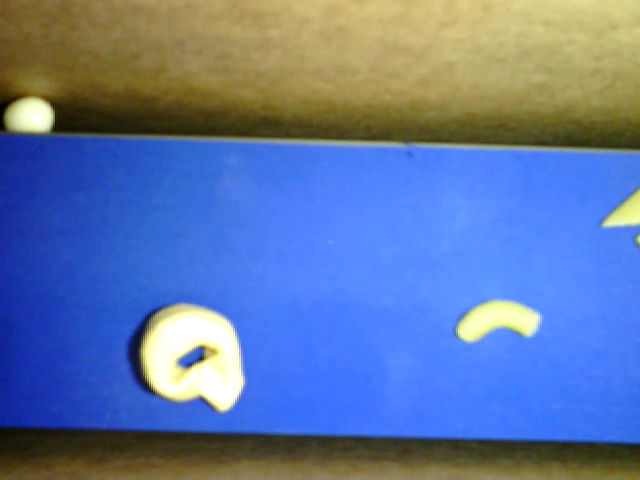elbow: (454, 298, 542, 344)
penne: (601, 187, 639, 228)
tortellini: (138, 302, 244, 414)
